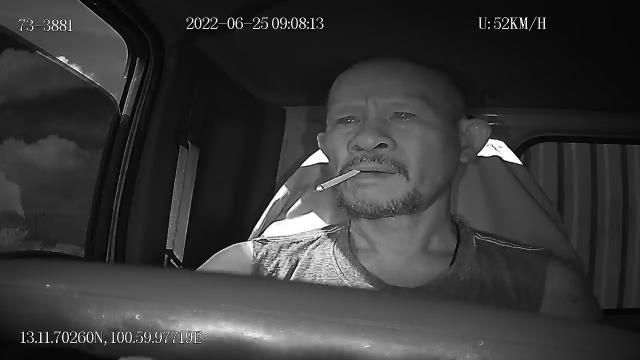SafeDriving: (383, 100, 425, 129), (328, 105, 368, 134)
Smoking: (312, 168, 360, 194)
